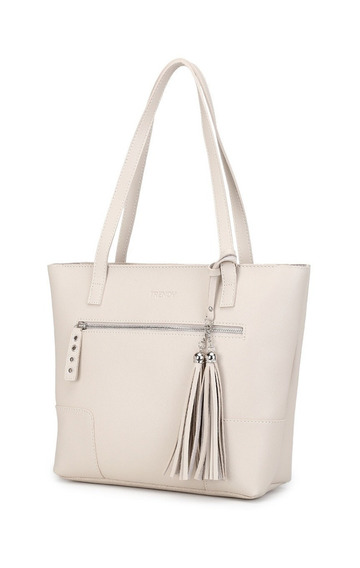cartera: (37, 55, 322, 507)
